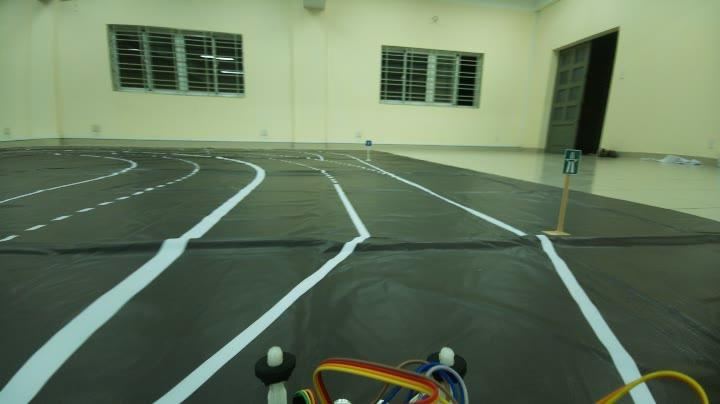highway_entry: (560, 140, 586, 180)
